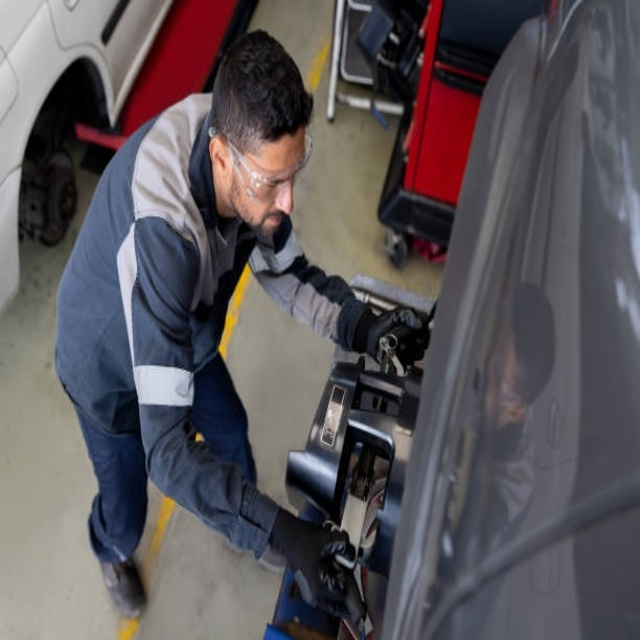Gafas: (208, 127, 314, 202)
Guantes: (269, 507, 349, 611), (359, 305, 429, 369)
Sin_mascara: (254, 202, 293, 243)
